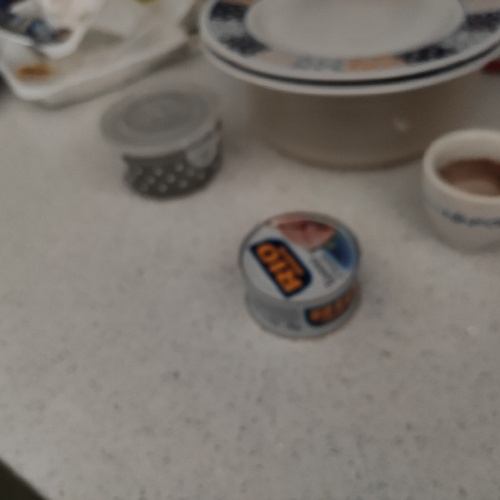tonno: (230, 202, 366, 343)
